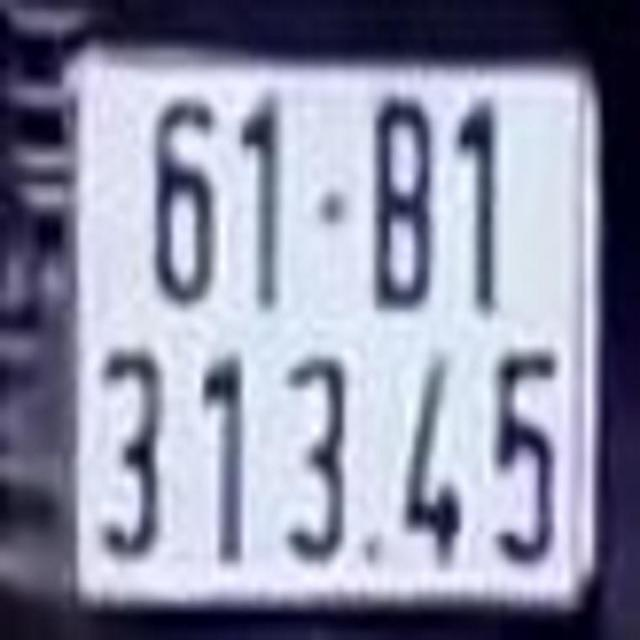1: (204, 352, 255, 563), (456, 101, 507, 306), (241, 100, 287, 306)
3: (286, 355, 352, 552), (103, 360, 168, 560)
4: (403, 353, 464, 569)
5: (489, 353, 554, 554)
9: (153, 95, 218, 305)
B: (371, 116, 434, 300)
